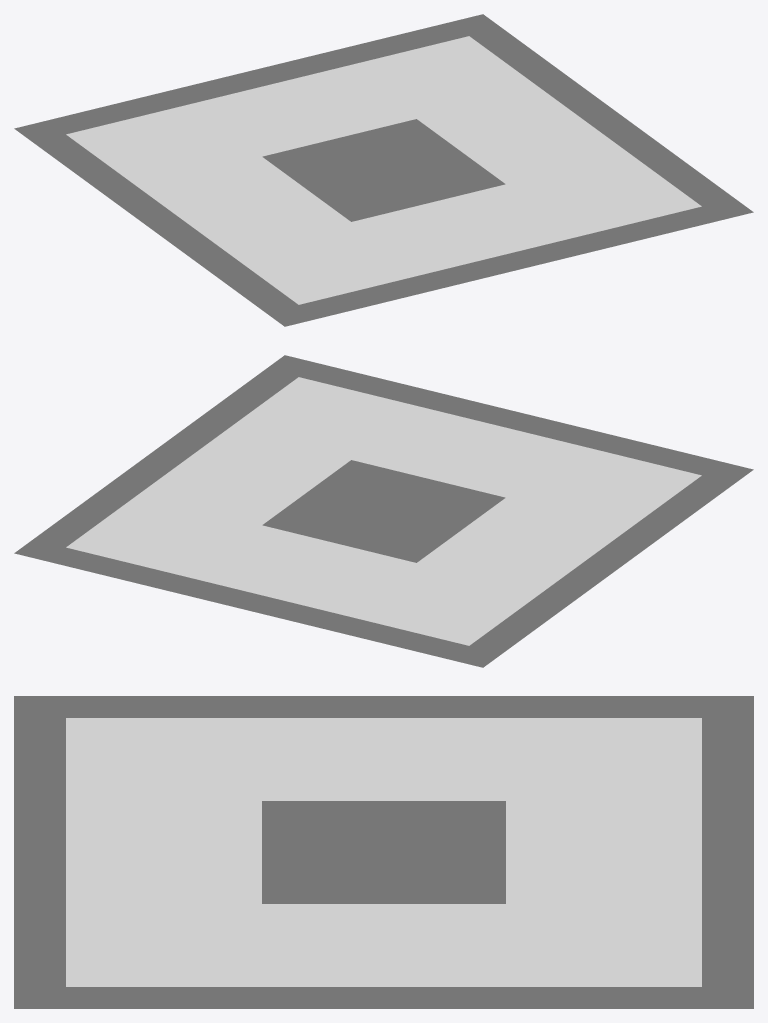
File: M_Floor350x350White80-5.fbx
3 views of the same model, one above another, from view 1: azimuth 30°, elevation 25°; view 2: azimuth 150°, elevation 25°; view 3: azimuth 270°, elevation 25° (orthographic). The views are drawn at different scales.
Parts seen in each view (by area): view 1: M_Floor350x350White80-5; view 2: M_Floor350x350White80-5; view 3: M_Floor350x350White80-5.
Boxes of the visible parts, x1=… form: M_Floor350x350White80-5: x1=14, y1=14, x2=753, y2=326; M_Floor350x350White80-5: x1=14, y1=355, x2=753, y2=667; M_Floor350x350White80-5: x1=14, y1=696, x2=753, y2=1008.
Size of the model in its own units: 350 by 350 by 5.15e-22.
